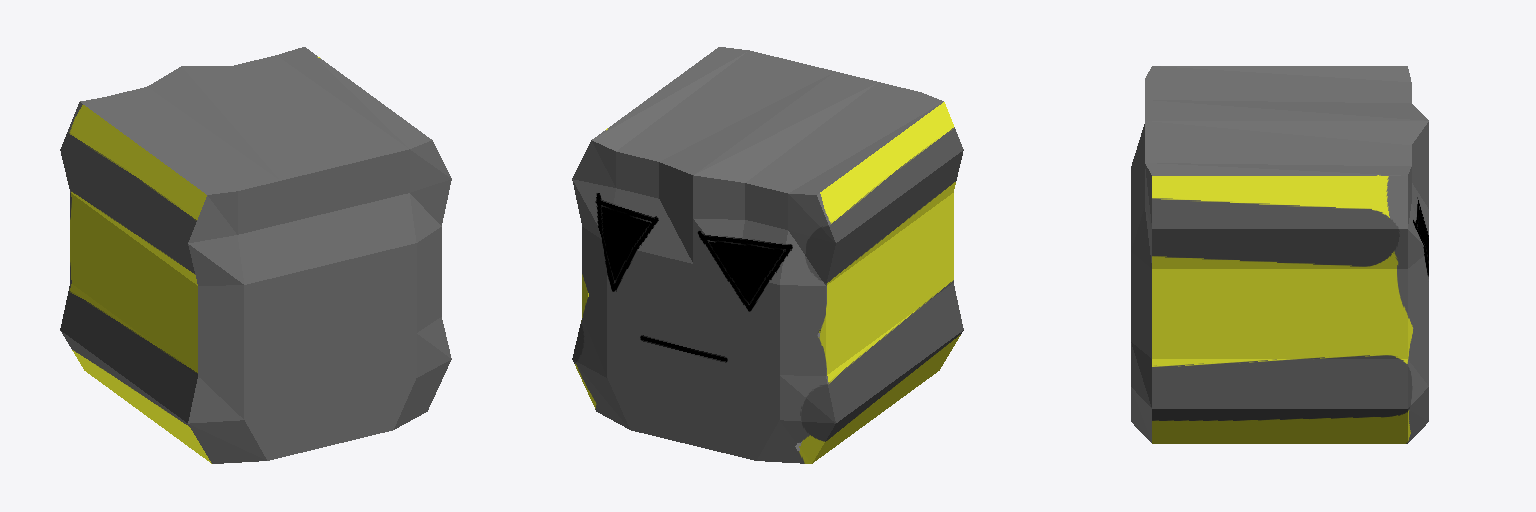
The picture shows the model from 3 angles: view 1: azimuth 30°, elevation 25°; view 2: azimuth 150°, elevation 25°; view 3: azimuth 270°, elevation 25°; orthographic projection.
Parts seen in each view (by area): view 1: Cube; view 2: Cube; view 3: Cube.
Boxes of the visible parts, x1,y1,x2,y2 form: Cube: [60, 47, 451, 463]; Cube: [572, 47, 963, 463]; Cube: [1131, 66, 1428, 443].
Bounding box in the file's own units: 2.04 × 2 × 2.
1 materials, 1 textured.